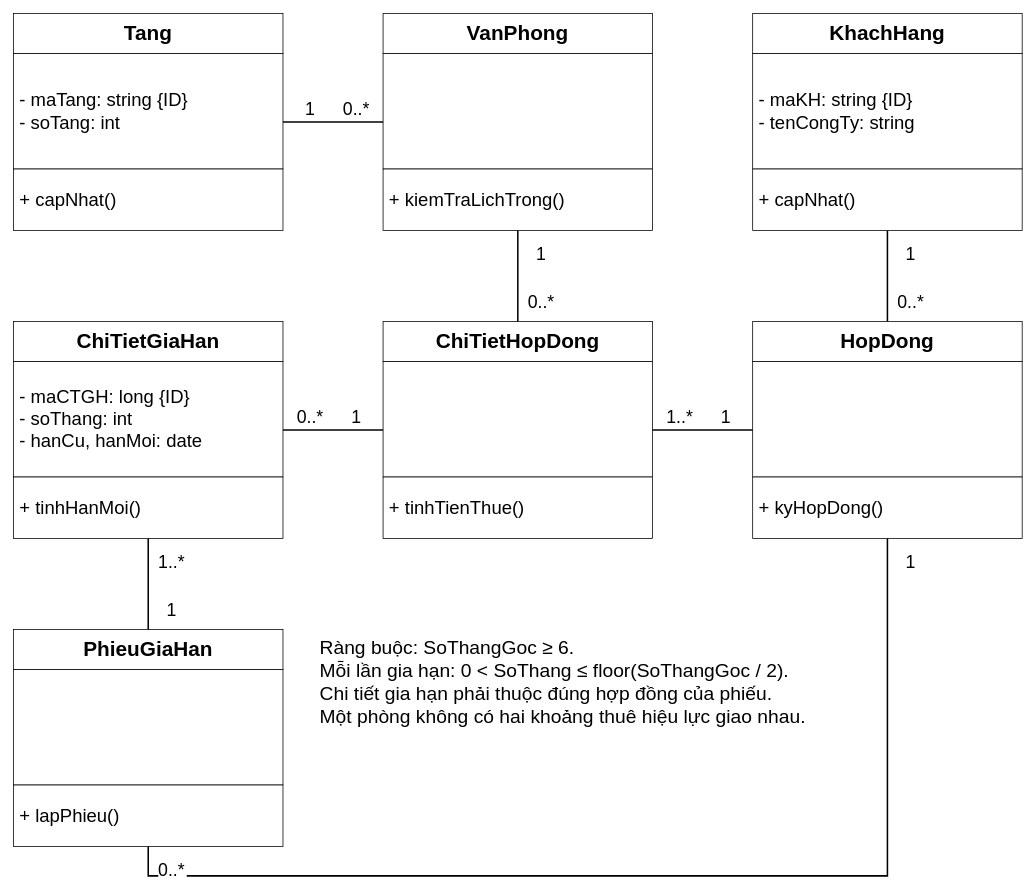
Some shapes in this 1036 by 894 pixel diagram are drawn without their labels. The shapes that lost their labels are listed below. From the top down, each one's box as (x1, y1, x2, y2) in pixels, then its label:
(382, 53, 653, 169): - maPhong: string {ID} - dienTich: decimal - huong: string
(382, 361, 653, 477): - maCTHD: long {ID} - donGiaThang: decimal - ngayKetThuc: date
(752, 361, 1022, 477): - maHD: string {ID} - ngayBatDau: date - soThangGoc: int
(13, 669, 283, 785): - maPGH: string {ID} - ngayLap: datetime
